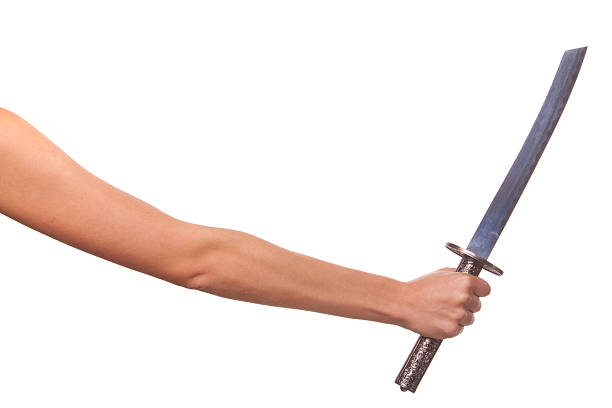knife: (392, 45, 590, 396)
